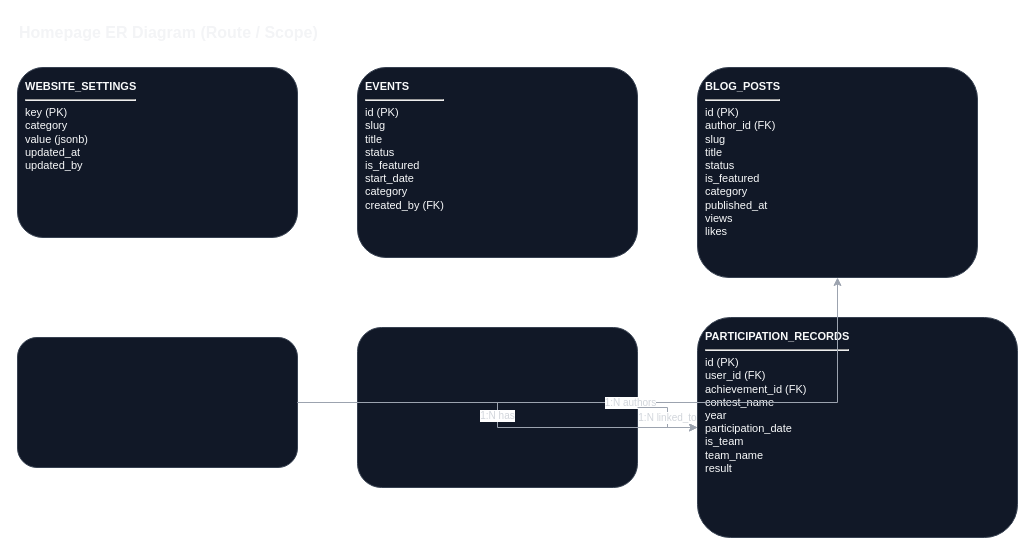
Some shapes in this 1035 by 555 pixel diagram are drawn without their labels. Each missing label, with the centre of its shape:
"ACHIEVEMENTS id (PK) title year category result is_featured" goes at (x=497, y=407).
"USERS id (PK) full_name avatar_url" goes at (x=157, y=402).
